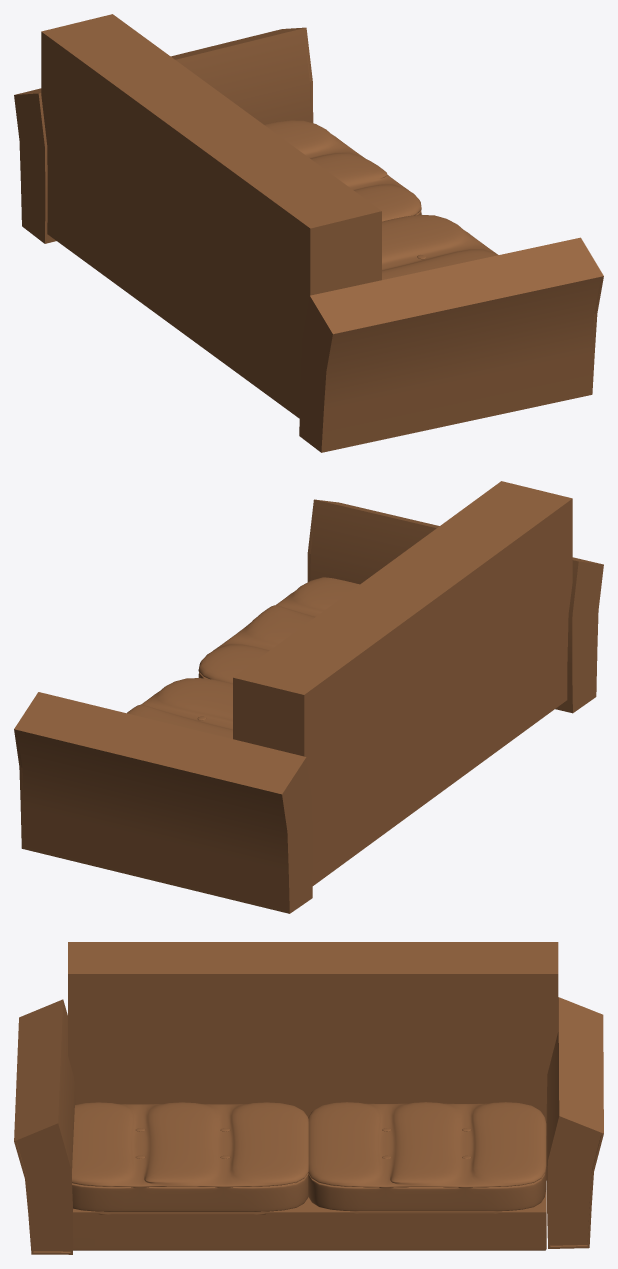
File: sofa.fbx
3 renders of one model, top to bottom at view 1: azimuth 30°, elevation 25°; view 2: azimuth 150°, elevation 25°; view 3: azimuth 270°, elevation 25°, orthographic. The views are drawn at different scales.
Parts seen in each view (by area): view 1: Dos_du_sofa, appuis_bras, appuie_bras_2, siege2, siege; view 2: Dos_du_sofa, appuie_bras_2, appuis_bras, siege, siege2; view 3: Dos_du_sofa, siege, siege2, sofa, appuis_bras, appuie_bras_2, pCube2.
Boxes of the visible parts, left/top/right/bottom form: Dos_du_sofa: left=41, top=14, right=381, bottom=418; appuis_bras: left=299, top=237, right=603, bottom=452; appuie_bras_2: left=14, top=27, right=313, bottom=243; siege2: left=264, top=120, right=421, bottom=221; siege: left=382, top=214, right=498, bottom=279; Dos_du_sofa: left=233, top=481, right=572, bottom=885; appuie_bras_2: left=14, top=692, right=312, bottom=913; appuis_bras: left=307, top=499, right=603, bottom=713; siege: left=198, top=577, right=359, bottom=683; siege2: left=127, top=678, right=232, bottom=738; Dos_du_sofa: left=68, top=942, right=558, bottom=1135; siege: left=72, top=1102, right=308, bottom=1214; siege2: left=308, top=1102, right=546, bottom=1213; sofa: left=73, top=1190, right=546, bottom=1238; appuis_bras: left=14, top=999, right=75, bottom=1254; appuie_bras_2: left=546, top=997, right=603, bottom=1248; pCube2: left=73, top=1182, right=546, bottom=1250.
Bounding box in the file's own units: 11.88 × 9.01 × 24.47.
